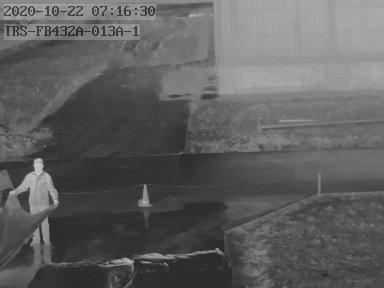person: (20, 156, 57, 243)
